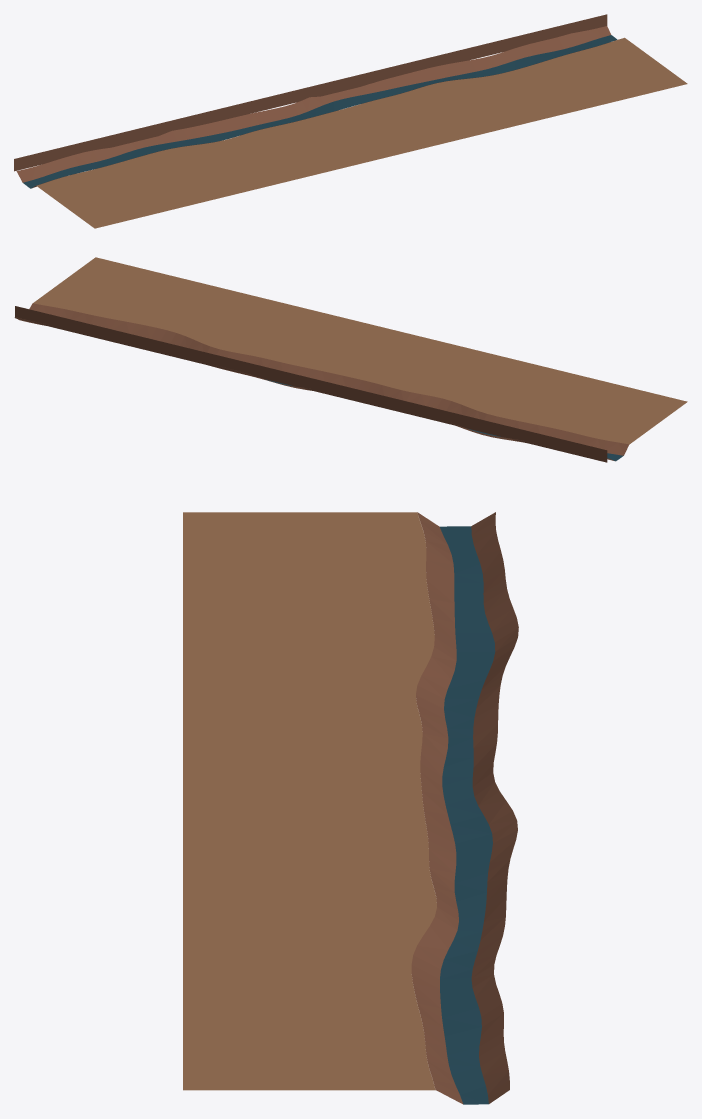
The model's file is desert_river_unity.fbx.
The picture shows the model from 3 angles, top to bottom: view 1: azimuth 30°, elevation 25°; view 2: azimuth 150°, elevation 25°; view 3: azimuth 270°, elevation 25°; orthographic projection. The views are drawn at different scales.
Visible parts, largest first — view 1: Far_Desert_Ground, COL_HighwayInvisibleWall, RiverTrench_NearBank, River_Surface; view 2: Far_Desert_Ground, COL_HighwayInvisibleWall, RiverTrench_FarBank, RiverTrench_NearBank; view 3: Far_Desert_Ground, River_Surface, RiverTrench_FarBank, RiverTrench_NearBank.
Part boxes in pixels (left/top/right/bottom): Far_Desert_Ground: left=36, top=37, right=687, bottom=228; COL_HighwayInvisibleWall: left=14, top=14, right=607, bottom=171; RiverTrench_NearBank: left=16, top=26, right=611, bottom=182; River_Surface: left=23, top=35, right=617, bottom=188; Far_Desert_Ground: left=33, top=257, right=687, bottom=444; COL_HighwayInvisibleWall: left=15, top=306, right=607, bottom=462; RiverTrench_FarBank: left=29, top=303, right=629, bottom=455; RiverTrench_NearBank: left=14, top=317, right=613, bottom=460; Far_Desert_Ground: left=183, top=512, right=436, bottom=1090; River_Surface: left=440, top=526, right=495, bottom=1104; RiverTrench_FarBank: left=411, top=512, right=463, bottom=1104; RiverTrench_NearBank: left=471, top=512, right=518, bottom=1103.
Size of the model in its own units: 300 by 8.63 by 73.64.
